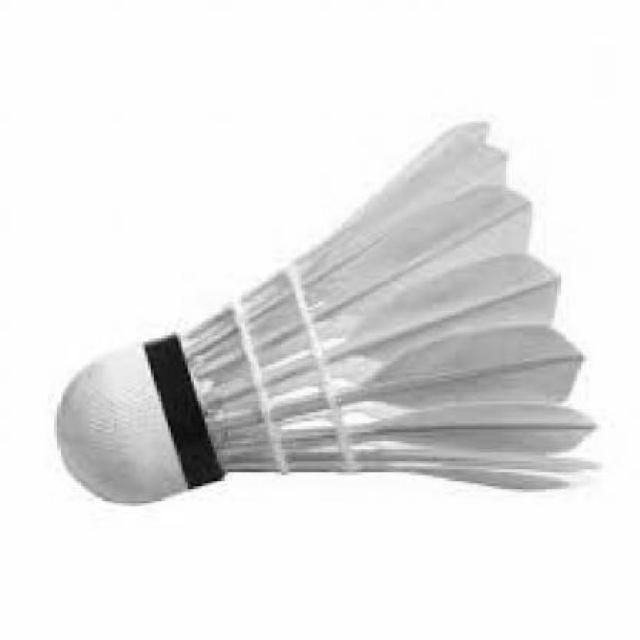Shuttlecock: (54, 116, 603, 510)
